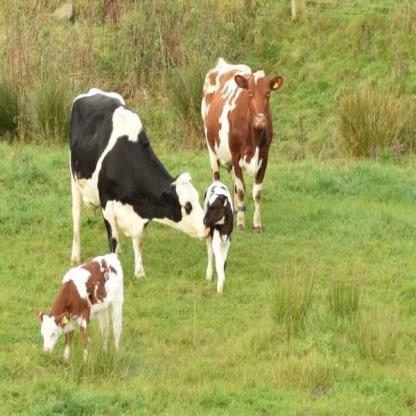cow: (71, 92, 210, 278), (202, 63, 281, 229), (42, 254, 123, 364), (206, 183, 233, 293)
